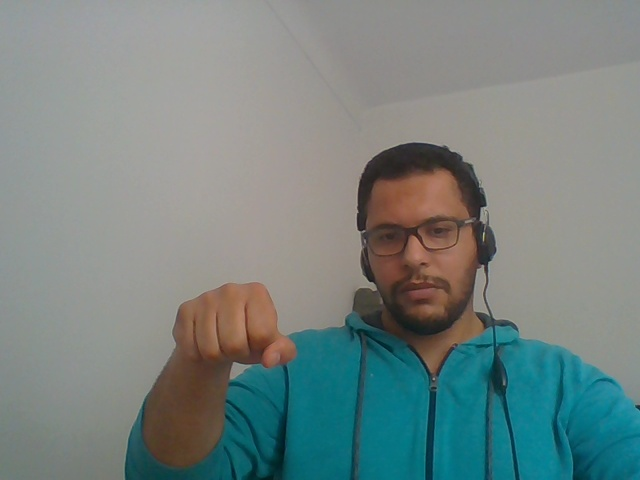yes: (151, 260, 303, 399)
